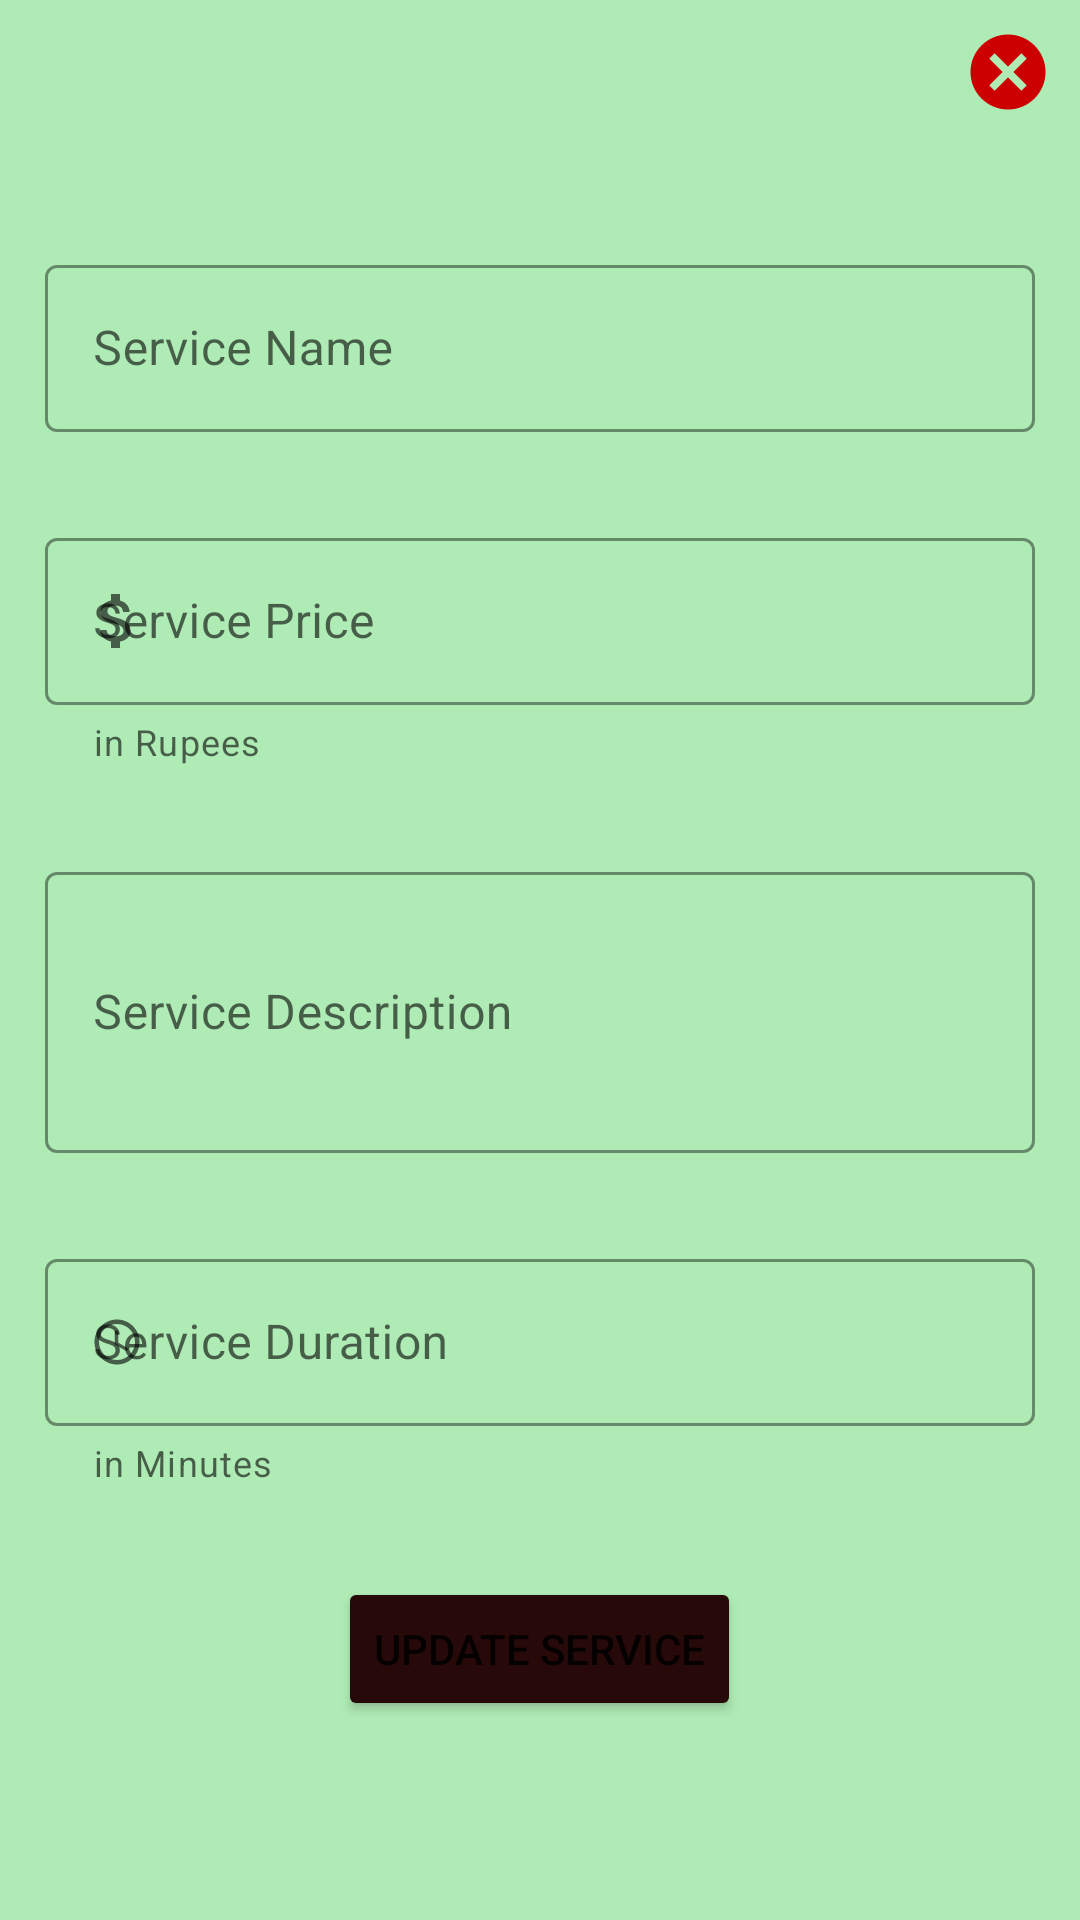

Where icons sit on this 1080*1920 app screen, as (x1, y1, x2, y2):
cancel: (970, 34, 1046, 110)
